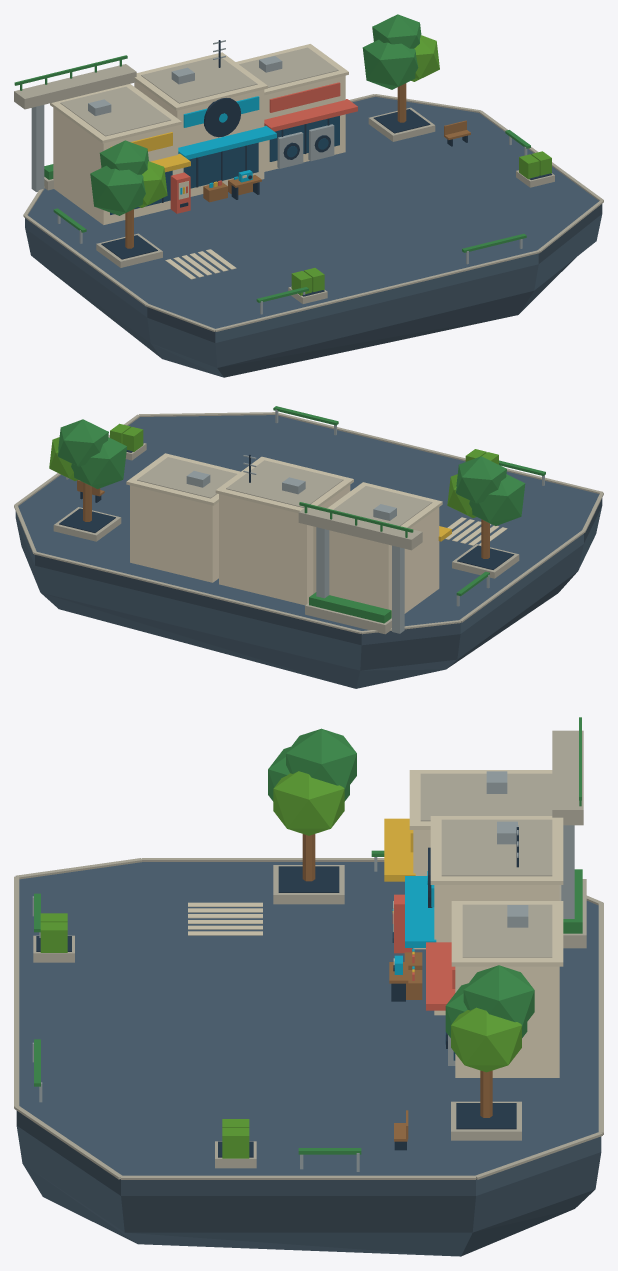
Rendered from fi02-record-lane.glb.
3 views of the same model, one above another, from view 1: azimuth 30°, elevation 25°; view 2: azimuth 150°, elevation 25°; view 3: azimuth 270°, elevation 25° (orthographic). The views are drawn at different scales.
Visible parts, largest first — view 1: GEO_ground, GEO_foundation, GEO_record, GEO_corner, GEO_laundry, PROP, PROP_tree_right, PROP_tree_left, GEO_bridge, GEO_edge, GEO_washer, GEO_crosswalk; view 2: GEO_ground, GEO_foundation, GEO_record, GEO_laundry, GEO_corner, PROP_tree_right, PROP_tree_left, GEO_bridge, GEO_edge, PROP, GEO_crosswalk; view 3: GEO_ground, GEO_foundation, GEO_laundry, GEO_record, PROP_tree_left, PROP_tree_right, GEO_corner, PROP, GEO_edge, GEO_bridge, GEO_crosswalk.
Part boxes in pixels (x1,y1,x2,y2): GEO_ground: (28,97,598,328); GEO_foundation: (25,204,602,377); GEO_record: (134,52,276,196); GEO_corner: (50,84,190,224); GEO_laundry: (236,44,357,171); PROP: (44,120,554,314); PROP_tree_right: (362,14,439,141); PROP_tree_left: (90,140,167,267); GEO_bridge: (14,55,136,191); GEO_edge: (23,94,603,331); GEO_washer: (277,124,334,168); GEO_crosswalk: (165,249,236,279); GEO_ground: (18,415,599,630); GEO_foundation: (15,498,602,688); GEO_record: (215,456,353,605); GEO_laundry: (126,453,240,582); GEO_corner: (313,482,451,616); PROP_tree_right: (49,419,126,541); PROP_tree_left: (447,456,525,578); GEO_bridge: (298,502,422,633); GEO_edge: (14,412,603,634); PROP: (66,406,545,634); GEO_crosswalk: (445,517,507,545); GEO_ground: (19,862,598,1175); GEO_foundation: (16,1111,601,1256); GEO_laundry: (426,901,563,1077); GEO_record: (405,816,563,1015); PROP_tree_left: (268,728,356,904); PROP_tree_right: (445,965,534,1140); GEO_corner: (384,770,552,949); PROP: (32,850,586,1171); GEO_edge: (14,858,603,1179); GEO_bridge: (552,717,583,918); GEO_crosswalk: (188,902,262,935).
Size of the model in its own units: 36.25 by 14.45 by 28.25.
